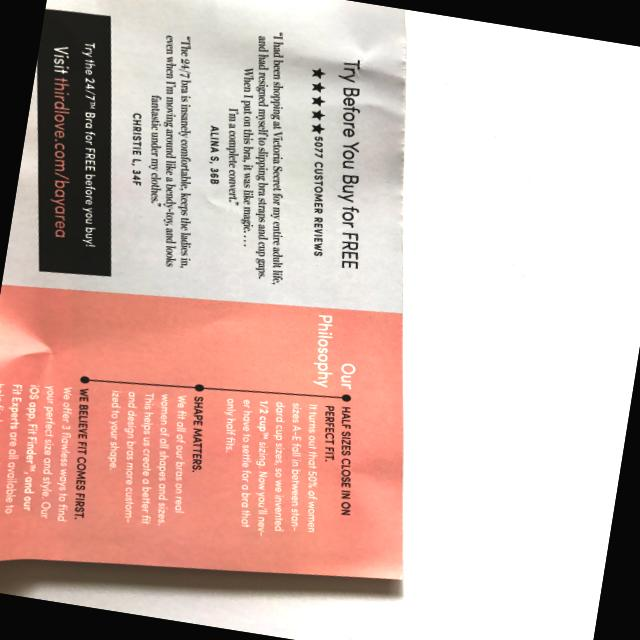Paper: (0, 0, 491, 631)
